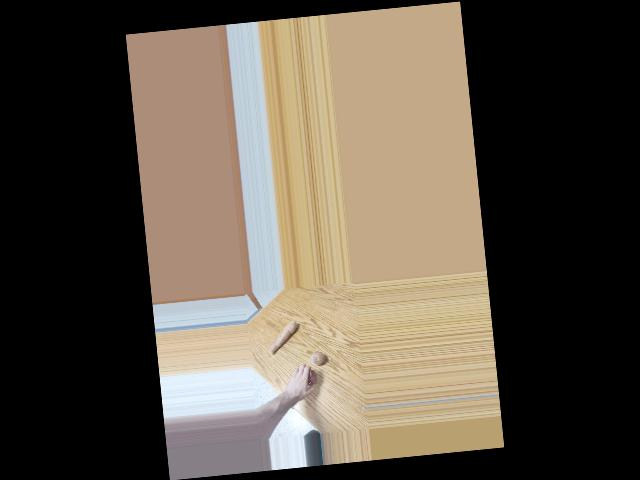onion: (301, 369, 316, 385)
